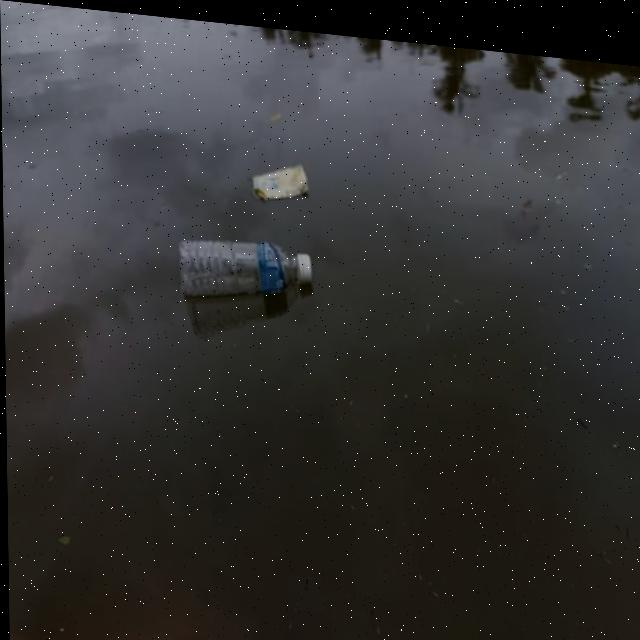paper: (245, 151, 315, 206)
waterbottle: (178, 210, 327, 320)
